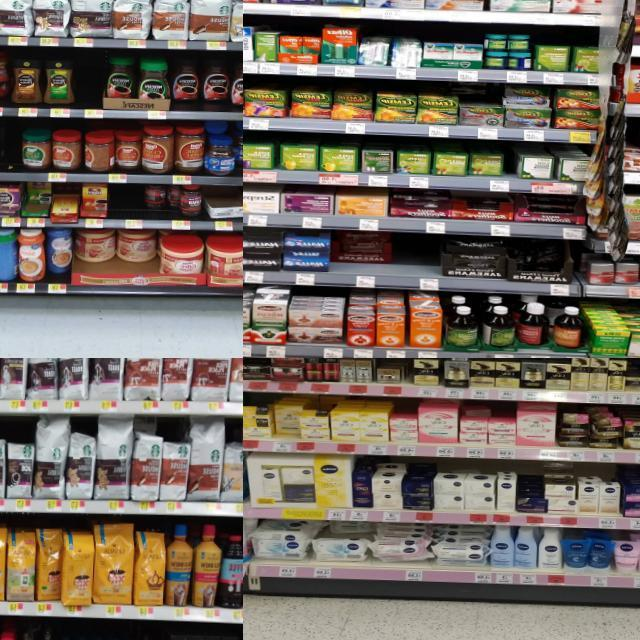empty: (392, 234, 439, 288), (74, 56, 103, 118), (108, 184, 144, 229), (0, 121, 21, 180)
